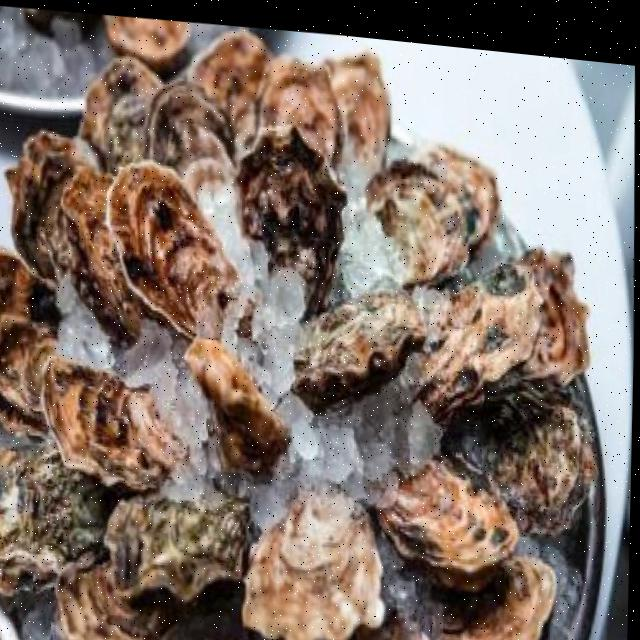Oyster-Closed: (375, 459, 522, 592), (292, 290, 425, 417)
Oyster-Indeterminate: (439, 378, 601, 541), (106, 160, 237, 343), (242, 492, 387, 640), (236, 129, 346, 321), (419, 264, 537, 428), (40, 361, 179, 493), (144, 82, 245, 261), (0, 442, 118, 593), (181, 339, 291, 487), (103, 495, 256, 595), (4, 130, 101, 281), (76, 56, 196, 176), (387, 557, 558, 640), (366, 160, 474, 285), (63, 169, 140, 342), (409, 140, 504, 252), (515, 248, 591, 386), (0, 250, 61, 419), (54, 564, 189, 640), (187, 30, 271, 150), (257, 56, 342, 165), (323, 53, 392, 182), (97, 14, 191, 65)
